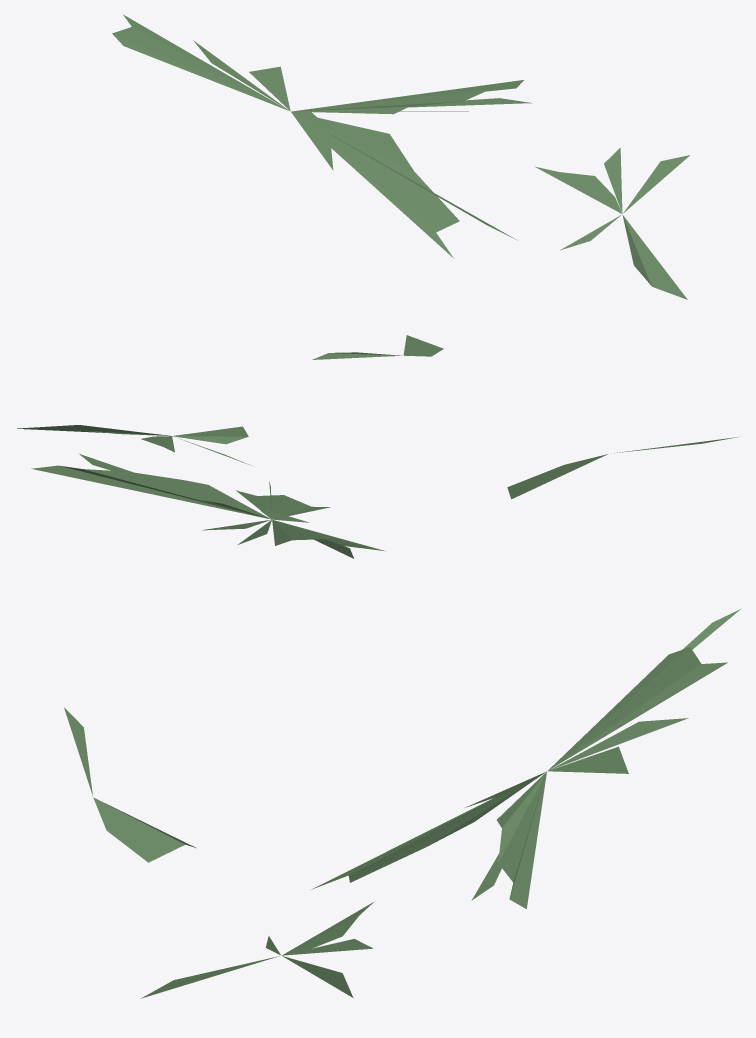
Rendered from c_1666_17817_forest.glb.
3 renders of one model, top to bottom at view 1: azimuth 30°, elevation 25°; view 2: azimuth 150°, elevation 25°; view 3: azimuth 270°, elevation 25°, orthographic. The views are drawn at different scales.
Parts seen in each view (by area): view 1: geometry_0; view 2: geometry_0; view 3: geometry_0.
Part boxes in pixels (x1,y1,x2,y2): geometry_0: (112,14,690,359); geometry_0: (17,425,740,558); geometry_0: (64,608,741,998).
Size of the model in its own units: 301 by 109 by 339.
